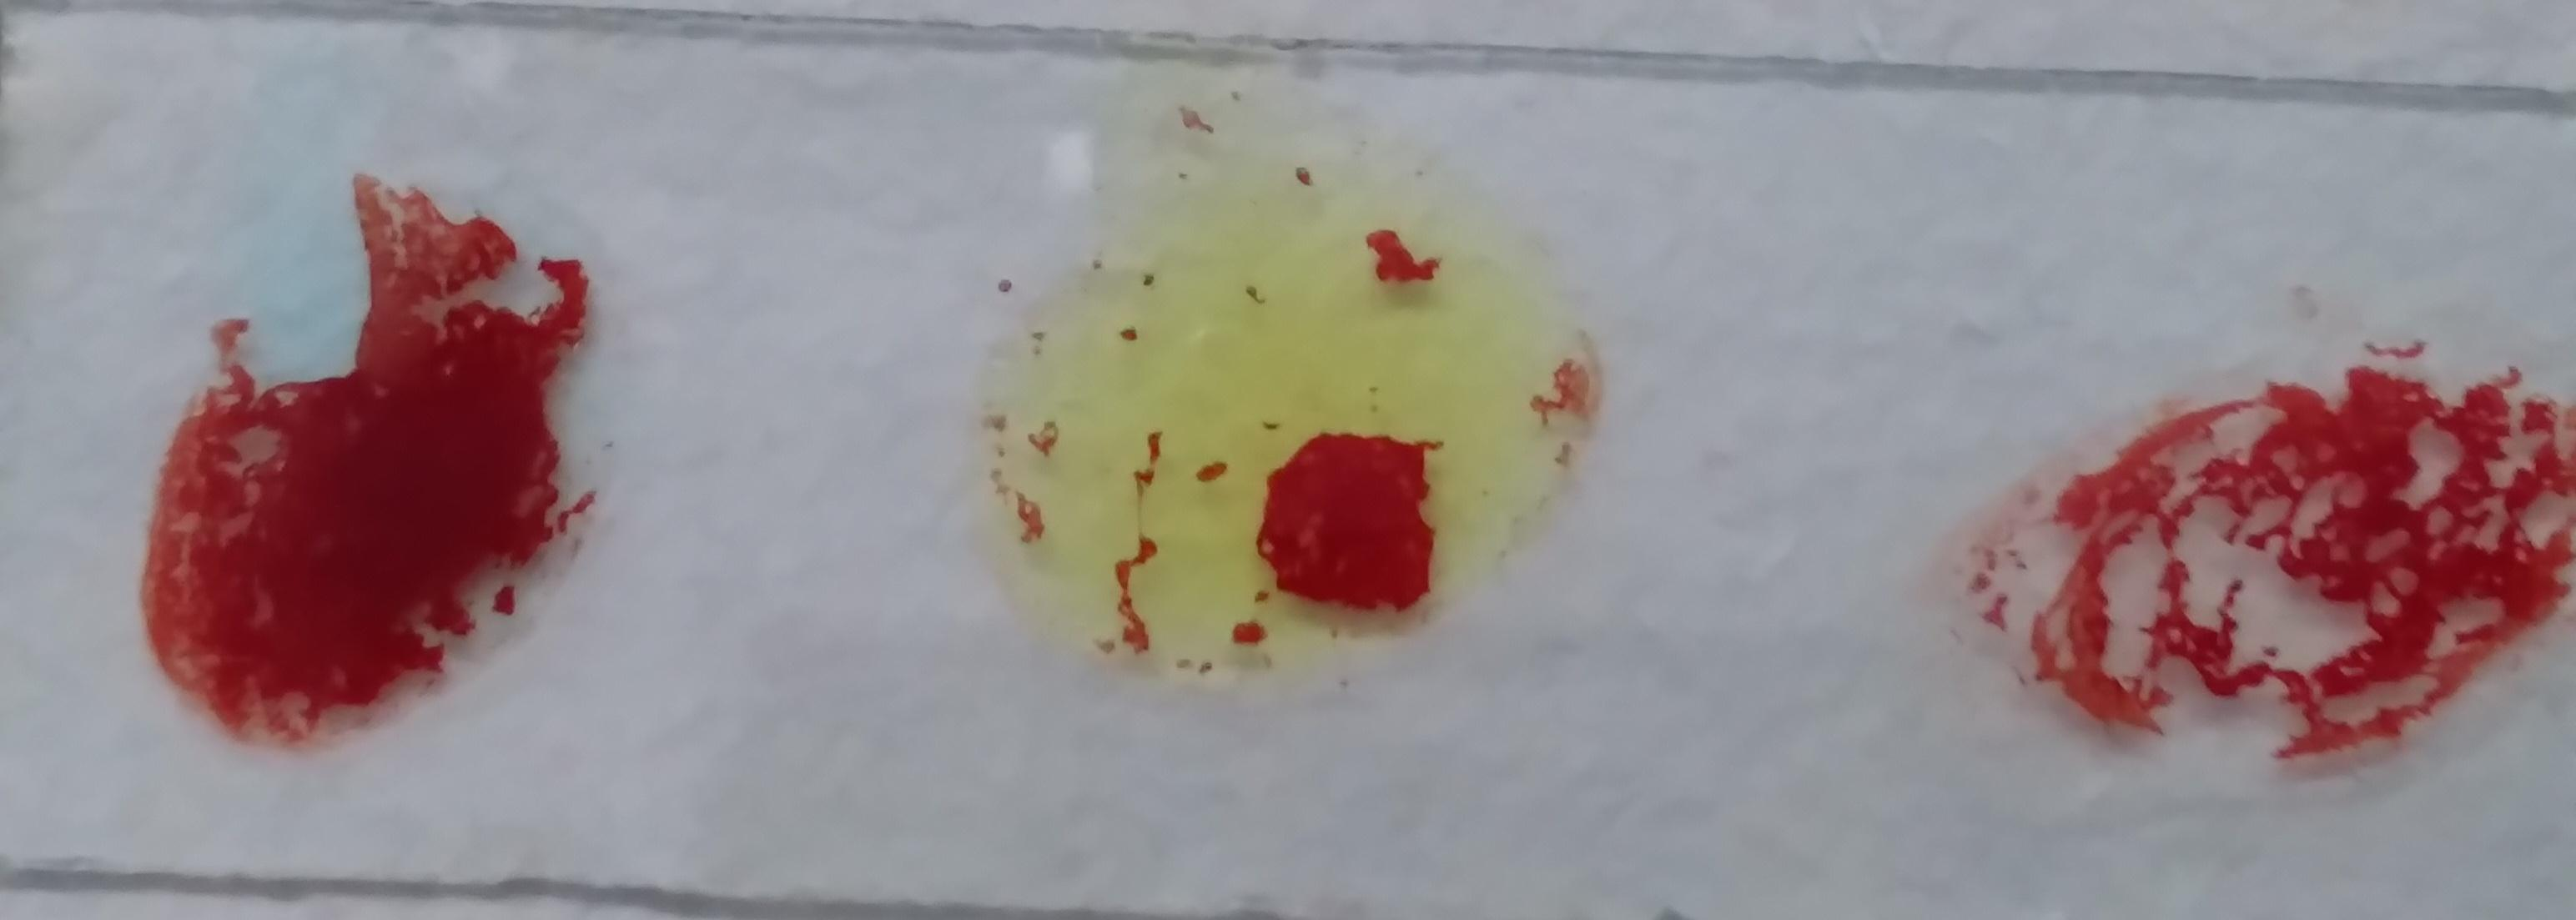A: (1963, 176, 2436, 772)
B: (996, 260, 1584, 710)
D: (0, 159, 618, 564)
